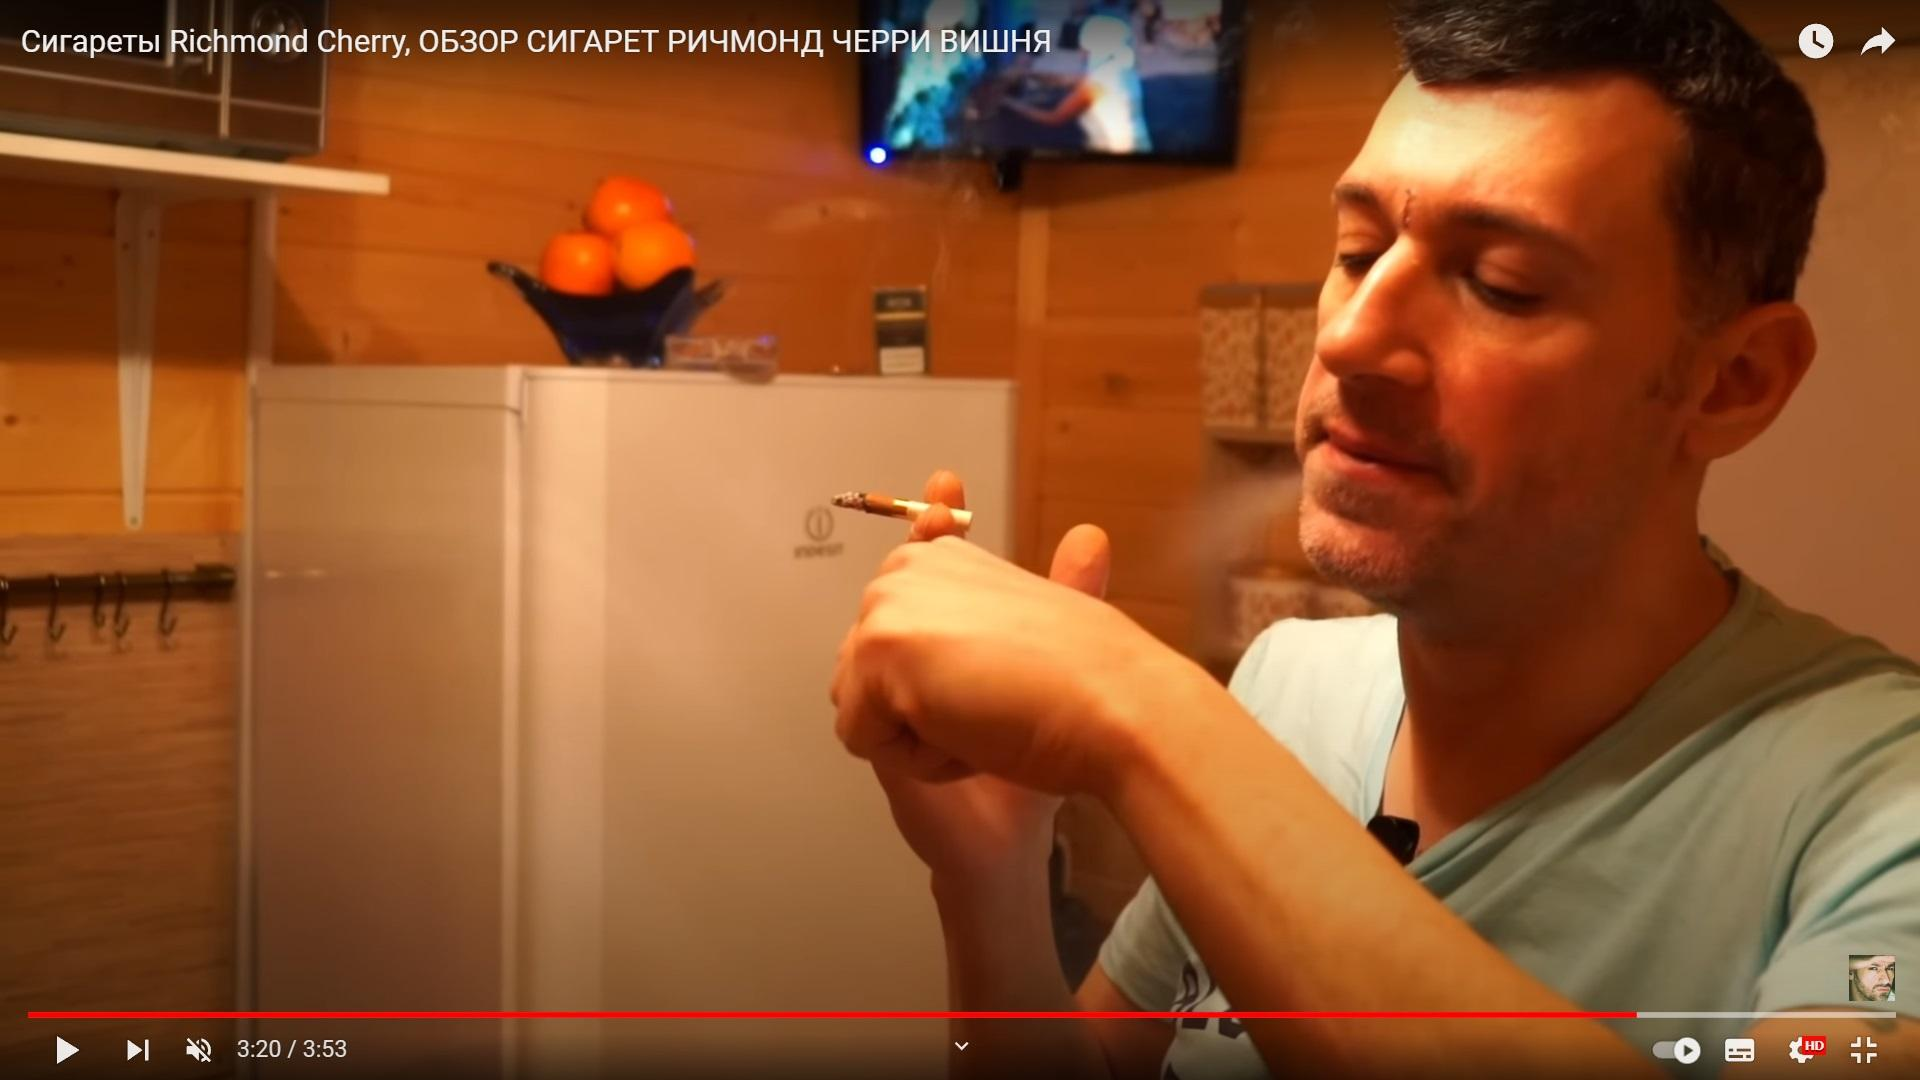cigarette: (831, 492, 973, 530)
